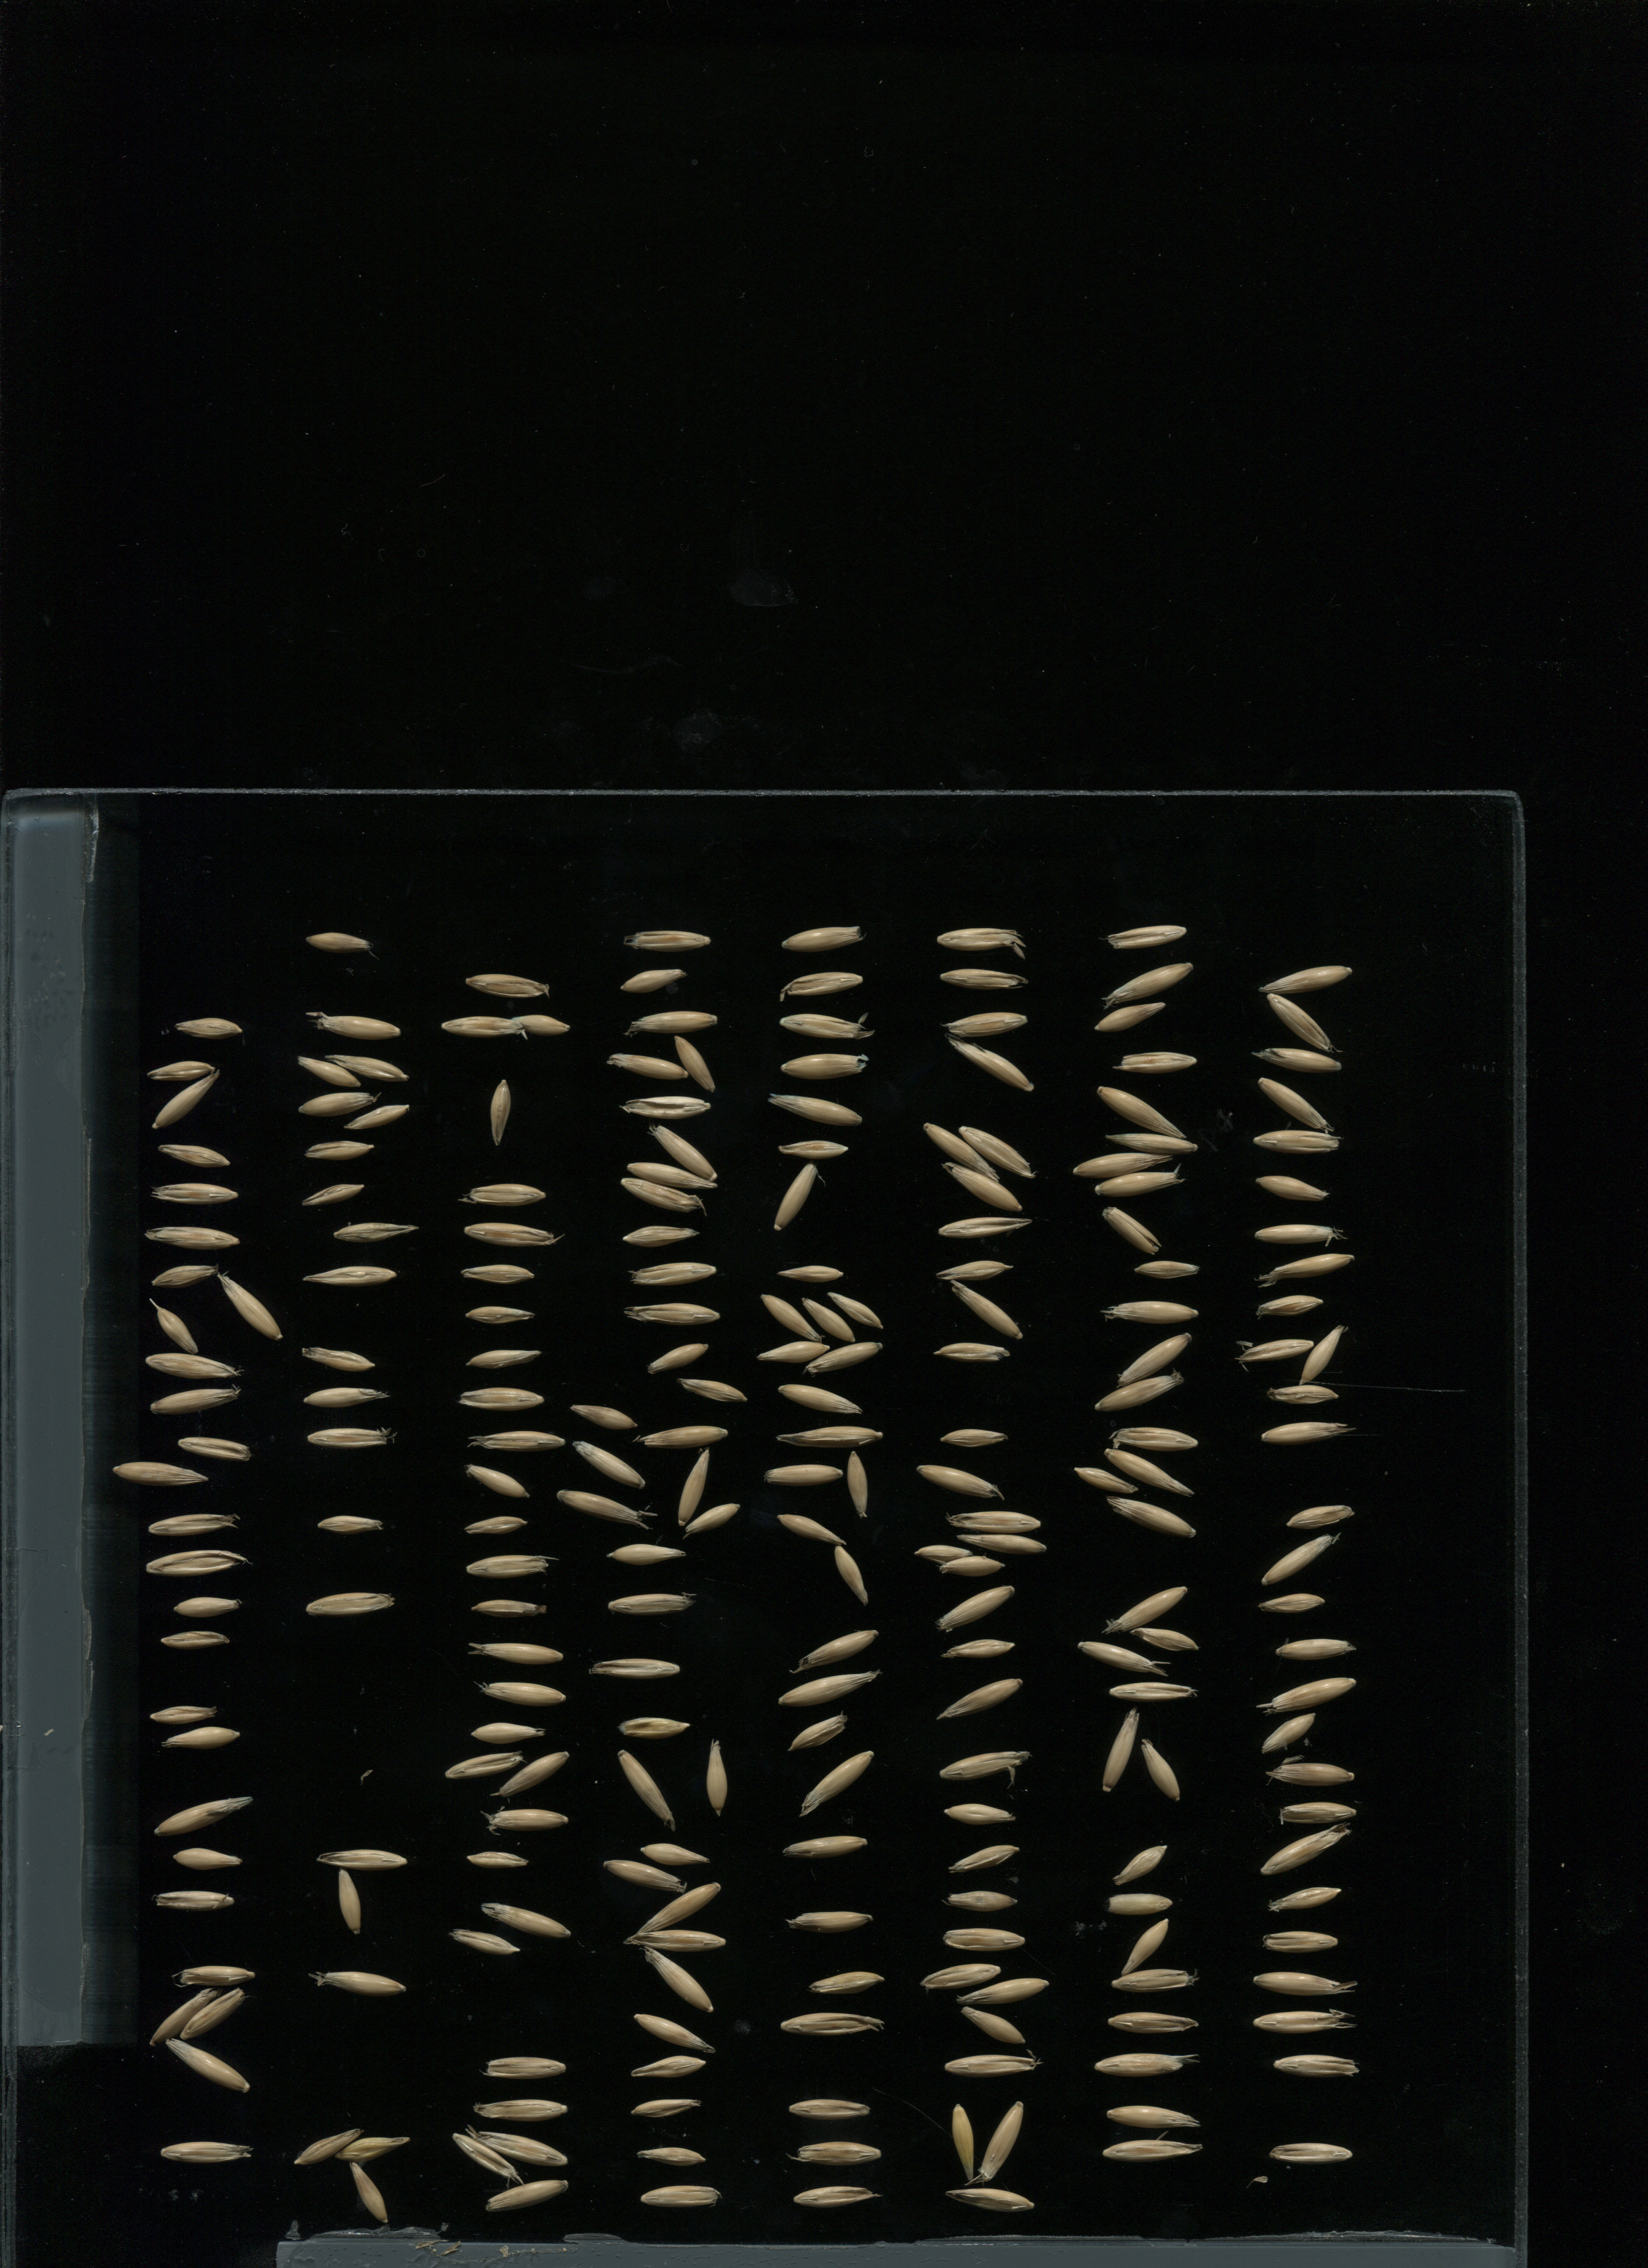WholeGrain: (944, 1037, 1037, 1092), (1097, 1085, 1187, 1141), (634, 1884, 722, 1940), (923, 1120, 997, 1185), (217, 1273, 283, 1344), (643, 1948, 715, 2013), (1102, 1447, 1194, 1499), (1257, 1826, 1354, 1874), (618, 1750, 674, 1830), (1254, 1076, 1333, 1132), (151, 1067, 224, 1129), (951, 1280, 1023, 1342), (167, 2039, 248, 2094), (805, 1750, 875, 1812), (1102, 961, 1196, 1007), (1266, 993, 1335, 1055), (151, 1794, 255, 1835), (1104, 1585, 1188, 1634), (467, 2127, 569, 2168), (958, 1125, 1034, 1180), (650, 1123, 718, 1183), (1261, 1532, 1336, 1585), (1106, 1497, 1196, 1541), (150, 1990, 218, 2046), (1118, 1333, 1190, 1386), (794, 1629, 880, 1673), (979, 2099, 1025, 2182), (944, 1162, 1023, 1210), (452, 2132, 523, 2185), (768, 1090, 866, 1127), (938, 1678, 1025, 1720), (632, 2013, 715, 2057), (479, 1902, 572, 1940), (1078, 1638, 1166, 1678), (574, 1442, 648, 1490), (497, 1750, 570, 1798), (912, 1462, 1002, 1500), (778, 1671, 880, 1705), (180, 1988, 246, 2039), (937, 1587, 1014, 1631), (1261, 1676, 1357, 1712), (1093, 1372, 1183, 1409), (1257, 1252, 1356, 1285), (1250, 1967, 1354, 1999), (620, 1176, 704, 1215), (146, 1546, 252, 1576), (759, 1292, 822, 1342), (460, 968, 553, 1002), (312, 1007, 405, 1041), (937, 1749, 1030, 1782), (556, 1490, 644, 1525), (1137, 1738, 1183, 1805), (1120, 1918, 1171, 1977), (1102, 1708, 1137, 1794), (602, 1859, 687, 1895), (620, 926, 718, 956), (1100, 1206, 1160, 1255), (775, 1162, 819, 1229), (776, 919, 868, 951), (1257, 965, 1354, 995), (150, 1298, 201, 1354), (109, 1458, 211, 1486), (776, 2011, 884, 2037), (345, 2161, 389, 2224), (1070, 1153, 1176, 1180), (960, 2006, 1028, 2046), (486, 2178, 569, 2212), (627, 1160, 718, 1190), (1252, 1044, 1343, 1074), (292, 2129, 363, 2168), (1299, 1326, 1343, 1388), (1250, 2007, 1352, 2034), (150, 1386, 239, 1416), (778, 1382, 863, 1414), (313, 1967, 408, 1995), (1111, 1842, 1169, 1888), (678, 1446, 711, 1525), (467, 1639, 567, 1666), (1259, 1712, 1319, 1756), (778, 972, 864, 1002), (805, 1340, 886, 1372), (831, 1544, 872, 1608), (778, 1014, 875, 1041), (623, 1300, 720, 1326), (144, 1352, 239, 1379), (1106, 2104, 1201, 2131), (801, 1298, 856, 1344), (305, 1590, 393, 1618), (326, 1053, 408, 1083), (775, 1513, 849, 1546), (935, 926, 1028, 953), (463, 1222, 556, 1248), (826, 1291, 884, 1333), (785, 1713, 849, 1752), (438, 1013, 525, 1041), (620, 1093, 711, 1120), (778, 1425, 884, 1447), (1113, 1426, 1197, 1454), (629, 1009, 718, 1035), (611, 1049, 690, 1079), (444, 1750, 523, 1780), (1097, 2051, 1187, 2078), (465, 1465, 532, 1500), (158, 2139, 254, 2164), (1264, 1761, 1357, 1786), (296, 1055, 364, 1088), (1100, 1301, 1201, 1324), (674, 1035, 715, 1092), (1106, 923, 1187, 951), (780, 1053, 872, 1078), (938, 967, 1030, 991), (958, 1979, 1049, 2004), (945, 2189, 1037, 2213), (486, 1807, 570, 1833), (146, 1227, 243, 1250), (1104, 1132, 1201, 1155), (1093, 1002, 1167, 1032), (1093, 1169, 1183, 1194), (1273, 2055, 1363, 2080), (299, 1344, 377, 1372), (1236, 1338, 1313, 1366), (630, 1930, 725, 1953), (306, 1425, 394, 1449), (630, 1261, 718, 1285), (458, 1386, 546, 1410), (921, 1963, 1002, 1990), (951, 2104, 977, 2185), (1250, 1130, 1343, 1153), (481, 1682, 567, 1706), (1072, 1465, 1139, 1497), (333, 2134, 412, 2161), (301, 928, 375, 956), (935, 1219, 1034, 1240), (947, 1845, 1021, 1874), (1104, 2139, 1203, 2161), (301, 1386, 391, 1409), (637, 1425, 727, 1447), (794, 2143, 884, 2166), (1107, 1680, 1197, 1703), (301, 1266, 398, 1287), (474, 2101, 570, 2122), (1273, 1638, 1356, 1662), (1255, 1173, 1328, 1201), (1104, 2011, 1199, 2032), (944, 2055, 1039, 2076), (333, 1870, 363, 1937), (176, 1435, 252, 1462), (641, 1842, 711, 1870), (787, 1909, 873, 1932), (940, 1928, 1026, 1951), (1111, 1969, 1197, 1992), (148, 1514, 241, 1535), (808, 1970, 887, 1995), (590, 1659, 681, 1680), (317, 1849, 408, 1870), (791, 2185, 882, 2206), (956, 1534, 1048, 1555), (1269, 2141, 1354, 2164), (1266, 1886, 1343, 1911), (648, 1342, 711, 1372), (785, 1835, 868, 1858), (945, 1013, 1028, 1035), (1116, 1049, 1199, 1072), (931, 1342, 1014, 1365), (685, 1502, 741, 1535), (622, 1222, 697, 1247), (607, 1594, 695, 1615), (451, 1928, 521, 1955), (296, 1092, 377, 1115), (467, 1183, 548, 1206), (1278, 1801, 1359, 1824), (470, 1720, 544, 1745), (787, 2099, 873, 2120), (680, 1377, 748, 1403), (570, 1403, 639, 1430), (1259, 1425, 1352, 1444), (158, 1143, 231, 1167), (845, 1449, 870, 1521), (164, 1726, 241, 1749), (1254, 1294, 1331, 1317), (1262, 1930, 1340, 1953), (467, 1557, 549, 1578), (153, 1891, 236, 1912), (484, 2057, 567, 2078), (151, 1183, 241, 1203), (618, 968, 688, 993), (488, 1078, 512, 1148), (173, 1847, 243, 1872), (1285, 1504, 1356, 1528), (755, 1340, 831, 1363), (509, 1013, 574, 1039), (345, 1104, 410, 1130), (945, 1513, 1042, 1530), (151, 1261, 220, 1285), (461, 1303, 535, 1326), (470, 1432, 565, 1449), (764, 1463, 843, 1484), (1255, 1224, 1342, 1243), (1264, 1384, 1342, 1405), (173, 1016, 243, 1039), (333, 1224, 423, 1241), (938, 1426, 1007, 1449), (1106, 1893, 1174, 1916), (461, 1349, 542, 1368), (607, 1544, 688, 1564), (174, 1965, 255, 1984), (634, 2057, 708, 2078), (708, 1740, 727, 1819), (641, 2187, 720, 2206), (143, 1058, 215, 1079), (315, 1513, 387, 1534), (173, 1595, 245, 1616), (944, 1805, 1016, 1826), (945, 1891, 1018, 1912), (470, 1599, 548, 1618), (935, 1261, 1012, 1280), (301, 1183, 366, 1206), (160, 1629, 231, 1650), (637, 2145, 708, 2166), (1257, 1594, 1326, 1615), (1130, 1629, 1199, 1650), (778, 1264, 845, 1285), (776, 1139, 849, 1159), (618, 1717, 690, 1736), (944, 1638, 1016, 1657), (305, 1141, 375, 1160), (630, 2099, 699, 2118), (460, 1266, 533, 1284), (1132, 1259, 1199, 1278), (914, 1544, 974, 1565), (463, 1516, 528, 1535), (148, 1706, 218, 1724), (467, 1851, 530, 1870), (940, 1558, 1005, 1576)
